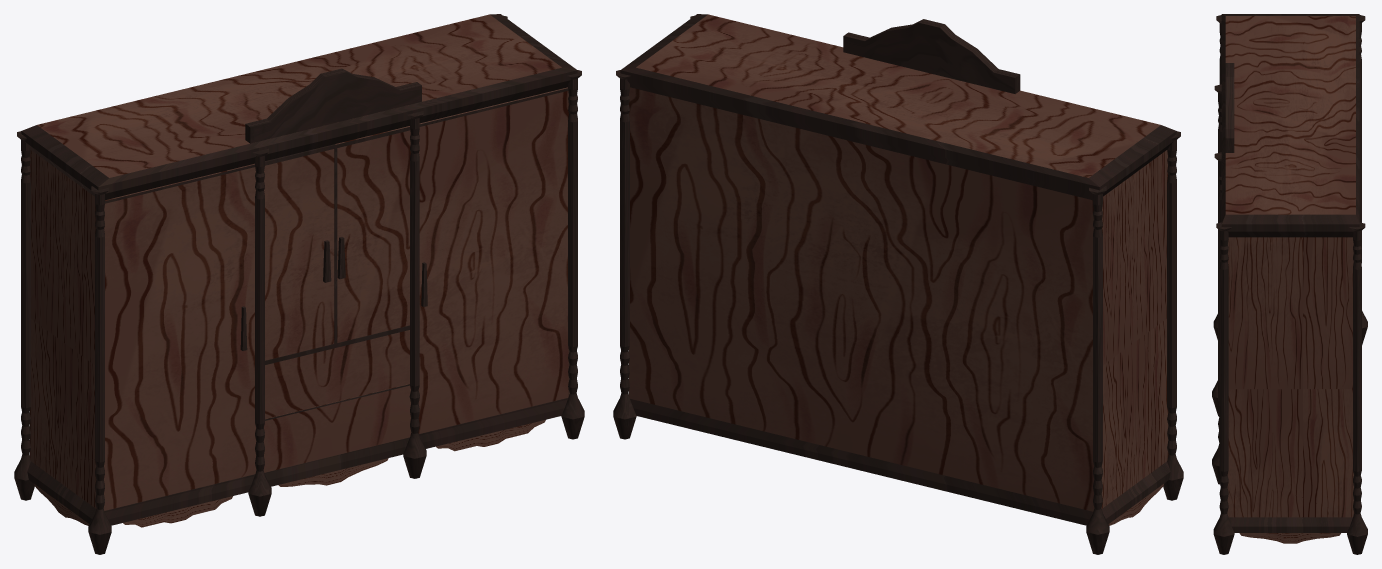
File: Gardrop.fbx
The picture shows the model from 3 angles, left to right: view 1: azimuth 30°, elevation 25°; view 2: azimuth 150°, elevation 25°; view 3: azimuth 270°, elevation 25°; orthographic projection. The views are drawn at different scales.
Visible parts, largest first — view 1: DOLAP, sütun, üst.001, alt; view 2: DOLAP, sütun, üst.001; view 3: DOLAP, sütun, üst.001, yan.
Part boxes in pixels (<box>): DOLAP: <box>21,14,577,525</box>; sütun: <box>14,15,584,554</box>; üst.001: <box>245,68,421,143</box>; alt: <box>123,420,545,527</box>; DOLAP: <box>620,14,1176,525</box>; sütun: <box>613,15,1183,554</box>; üst.001: <box>843,19,1020,93</box>; DOLAP: <box>1221,14,1359,532</box>; sütun: <box>1212,15,1367,554</box>; üst.001: <box>1225,63,1234,152</box>; yan: <box>1239,533,1340,543</box>.
Size of the model in its own units: 334 by 269 by 101.
2 materials, 2 textured.
